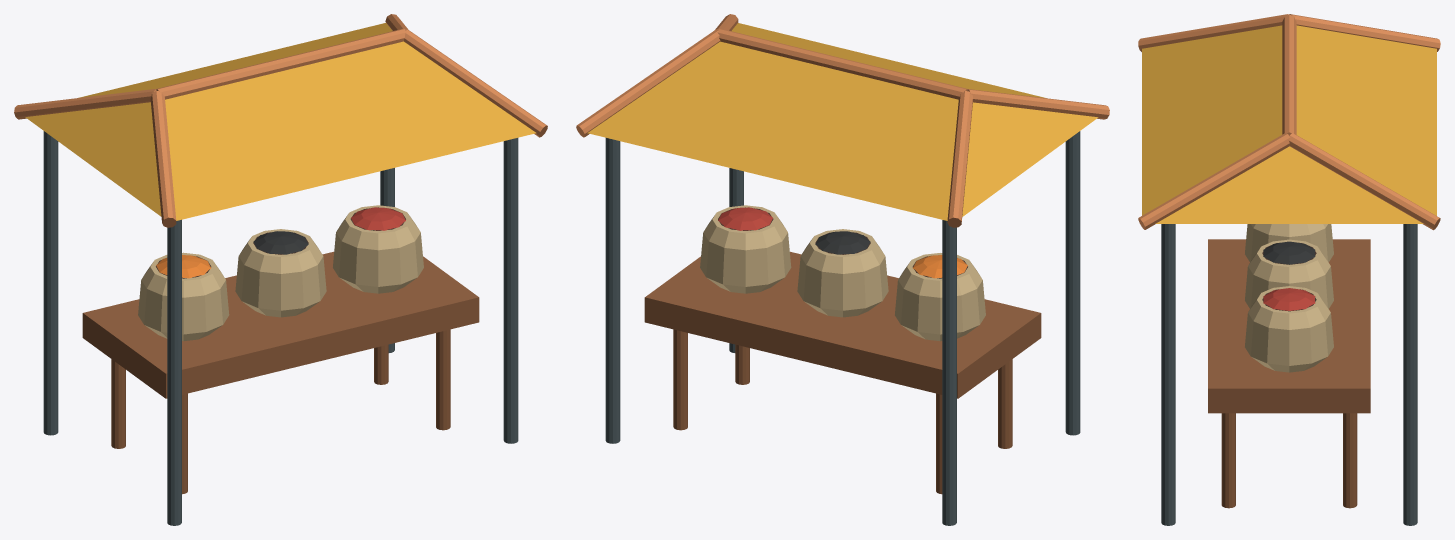
Rendered from 053_spice_stall.glb.
3 views of the same model, side by side, from view 1: azimuth 30°, elevation 25°; view 2: azimuth 150°, elevation 25°; view 3: azimuth 270°, elevation 25° (orthographic). The views are drawn at different scales.
Parts seen in each view (by area): view 1: Spice stall; view 2: Spice stall; view 3: Spice stall.
Boxes of the visible parts, x1,y1,x2,y2 form: Spice stall: (14, 14, 547, 525); Spice stall: (576, 14, 1109, 525); Spice stall: (1138, 14, 1440, 525).
Bounding box in the file's own units: 2.73 × 2.56 × 1.9.
